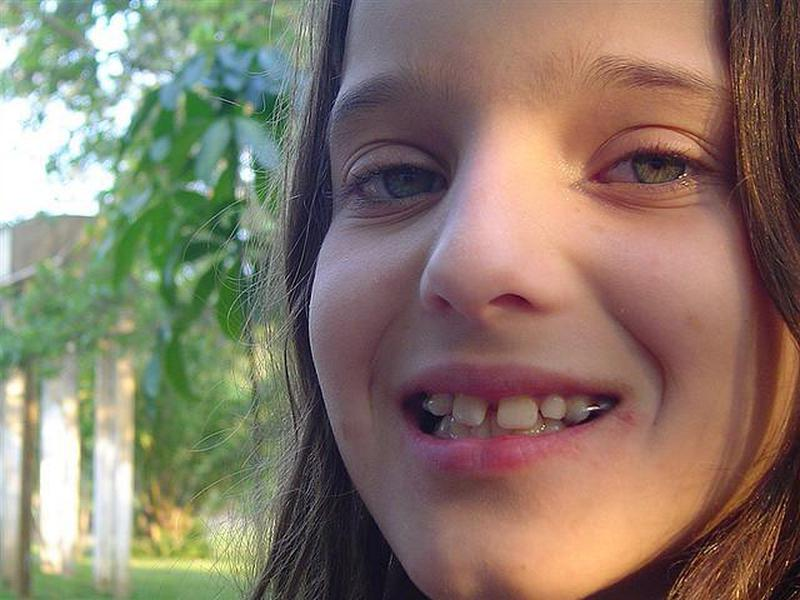person: (260, 2, 789, 600)
